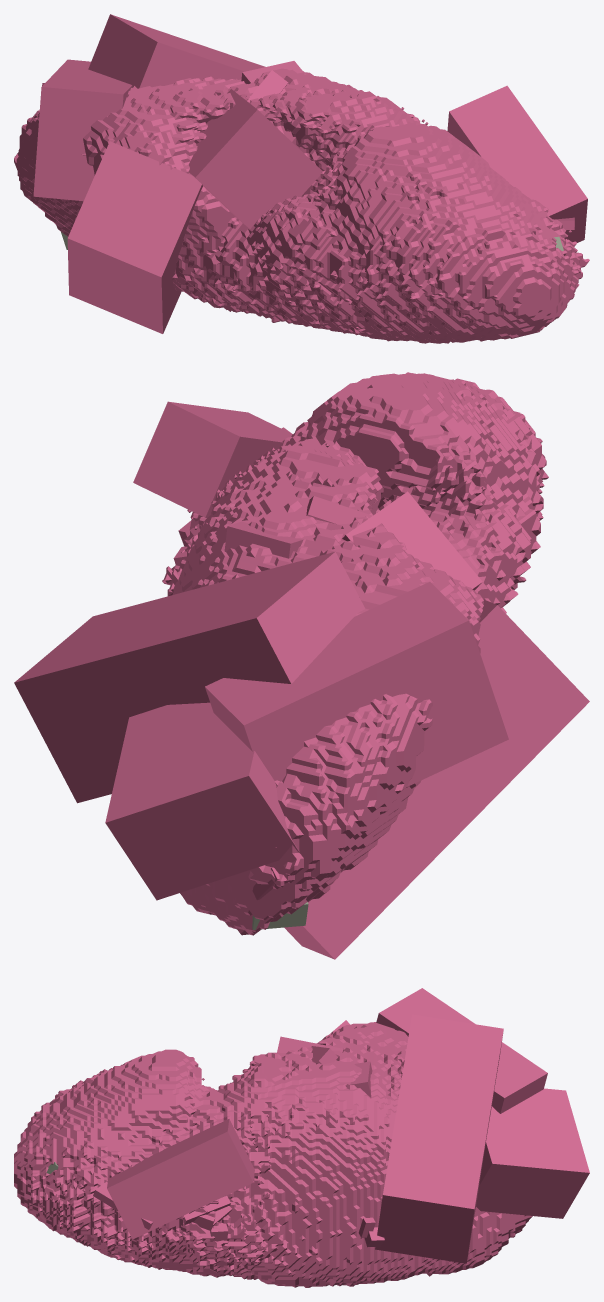
The model's file is concensus_with_female_projected_tbs.glb.
3 renders of one model, top to bottom at view 1: azimuth 30°, elevation 25°; view 2: azimuth 150°, elevation 25°; view 3: azimuth 270°, elevation 25°, orthographic. The views are drawn at different scales.
Visible parts, largest first — view 1: world; view 2: world; view 3: world.
Part boxes in pixels (x1,y1,x2,y2): world: [14, 14, 589, 343]; world: [14, 372, 589, 959]; world: [14, 988, 589, 1287].
Size of the model in its own units: 99.2 by 70.78 by 144.
